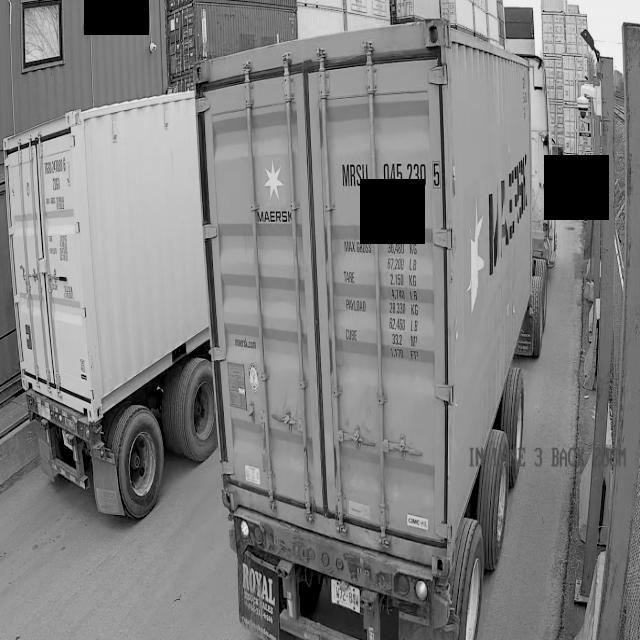container_company_logo: (257, 142, 296, 224)
container_number: (339, 157, 445, 223)
license_plate: (324, 568, 363, 618)
other_container_info: (344, 228, 429, 365)
truck_with_container: (196, 20, 558, 640), (4, 92, 217, 517)
